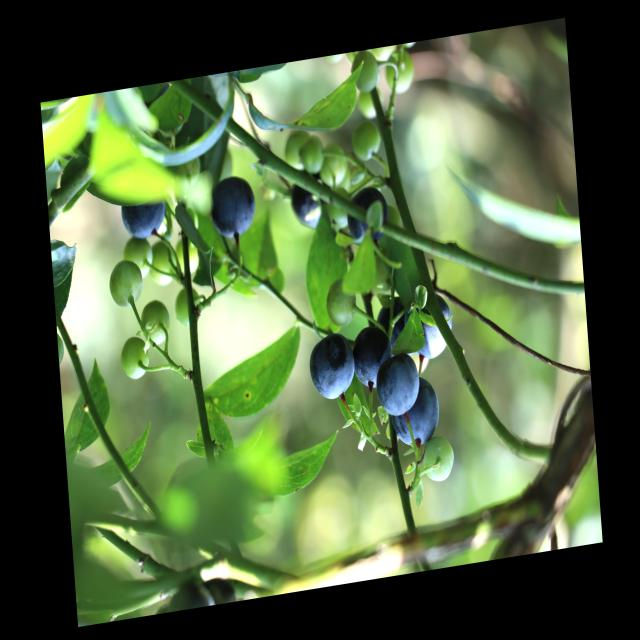blueberry: (306, 328, 358, 404), (390, 377, 443, 451), (403, 294, 457, 365), (207, 171, 259, 242), (373, 346, 423, 419), (351, 318, 397, 394), (345, 186, 392, 250), (118, 194, 166, 243), (288, 180, 323, 235)
blueberry-unripe: (418, 432, 458, 488), (107, 257, 144, 312), (322, 277, 357, 331), (384, 48, 418, 97), (280, 128, 314, 175), (120, 233, 154, 280), (119, 335, 151, 384), (140, 298, 171, 348), (351, 117, 383, 163), (346, 48, 381, 90), (319, 139, 349, 188), (146, 242, 176, 288), (172, 286, 202, 328), (301, 133, 326, 176)
